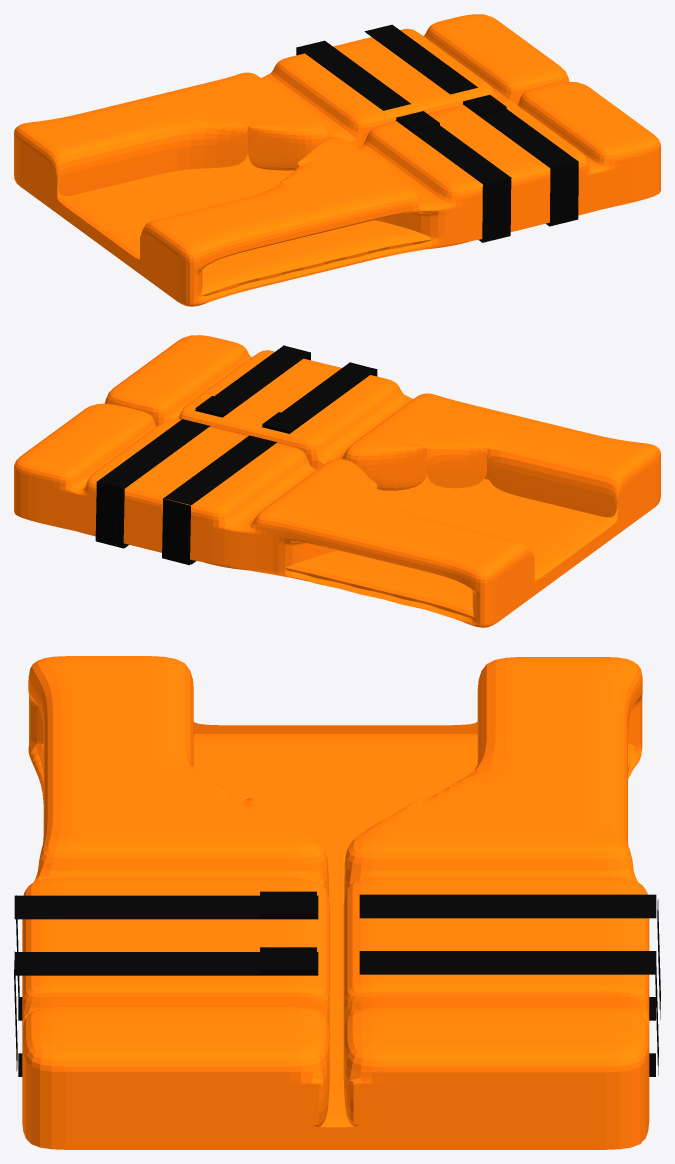
File: lifeVest.fbx
3 views of the same model, one above another, from view 1: azimuth 30°, elevation 25°; view 2: azimuth 150°, elevation 25°; view 3: azimuth 270°, elevation 25° (orthographic). The views are drawn at different scales.
Visible parts, largest first — view 1: Cube, Plane.007, Cube.002, Cube.001; view 2: Cube, Plane.007, Cube.002, Cube.001; view 3: Cube, Plane.007, Cube.002, Cube.001.
Part boxes in pixels (left/top/right/bottom): Cube: left=14, top=14, right=660, bottom=306; Plane.007: left=296, top=24, right=578, bottom=242; Cube.002: left=463, top=95, right=506, bottom=115; Cube.001: left=396, top=111, right=439, bottom=132; Cube: left=14, top=335, right=660, bottom=627; Plane.007: left=95, top=345, right=377, bottom=565; Cube.002: left=195, top=396, right=239, bottom=417; Cube.001: left=262, top=412, right=305, bottom=433; Cube: left=22, top=656, right=649, bottom=1149; Plane.007: left=14, top=894, right=660, bottom=1076; Cube.002: left=260, top=947, right=316, bottom=974; Cube.001: left=260, top=891, right=316, bottom=918.
Size of the model in its own units: 304 by 37.5 by 206.
